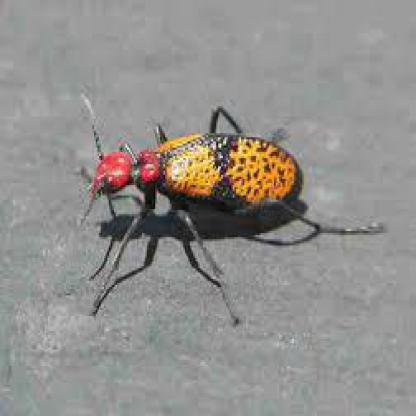blister beetle: (81, 95, 303, 221)
